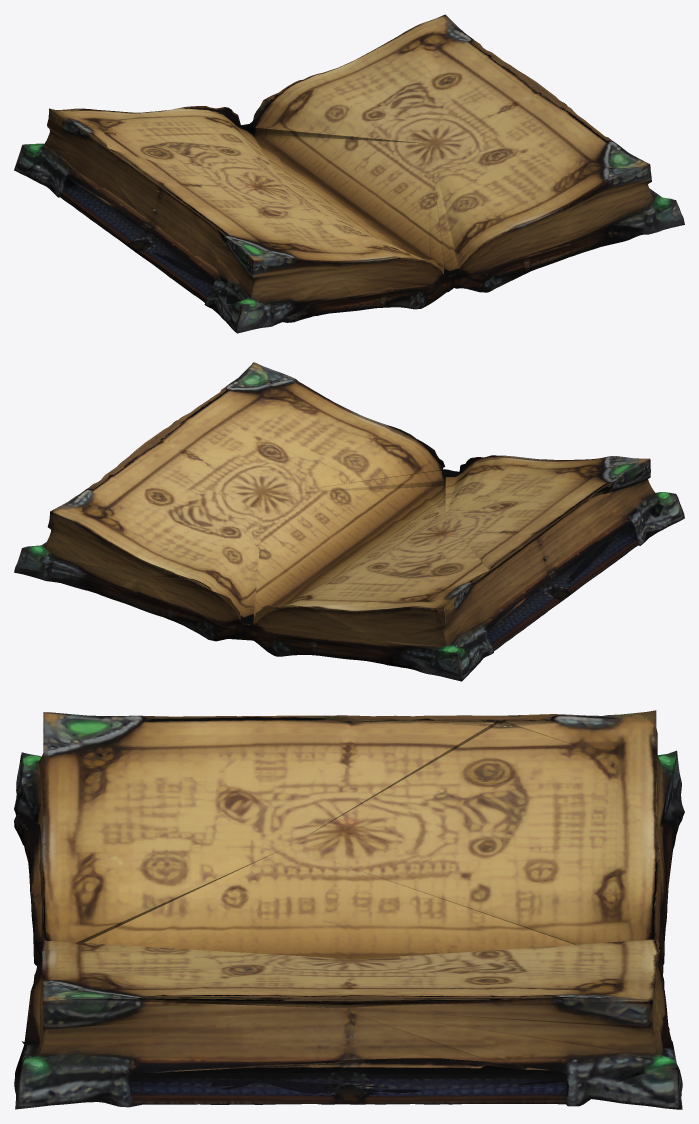
File: AprenticeBook.fbx
The picture shows the model from 3 angles, top to bottom: view 1: azimuth 30°, elevation 25°; view 2: azimuth 150°, elevation 25°; view 3: azimuth 270°, elevation 25°; orthographic projection. The views are drawn at different scales.
Parts seen in each view (by area): view 1: world; view 2: world; view 3: world.
Boxes of the visible parts, bbox=[...] form: world: bbox=[14, 14, 684, 333]; world: bbox=[14, 362, 684, 681]; world: bbox=[14, 710, 684, 1109].
Size of the model in its own units: 100 by 18.9 by 86.94.
Materials: 1 (1 with a texture image).
